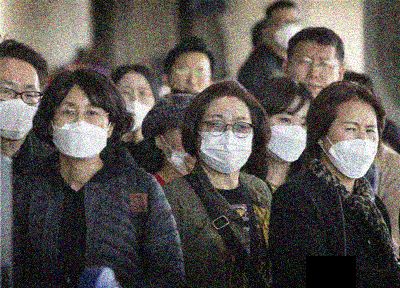with_mask: (48, 99, 108, 162), (198, 111, 253, 170), (324, 118, 377, 179), (264, 109, 308, 164), (115, 84, 153, 132)
without_mask: (289, 50, 341, 100), (167, 60, 212, 97)
